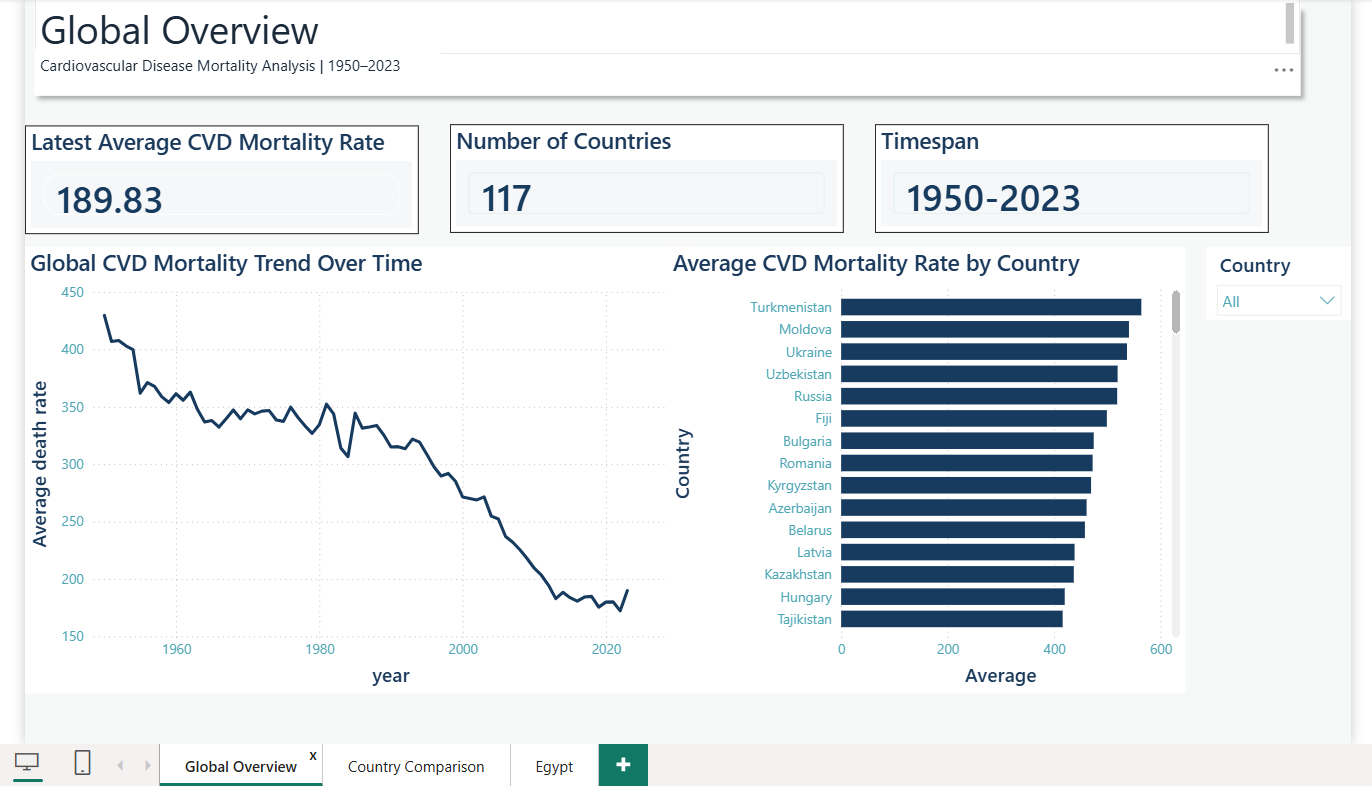

The page's visual inventory and layout, read from the dashboard file:
{"tool":"powerbi","page":{"name":"Global Overview","canvas":[1280,720],"ordinal":0},"visuals":[{"type":"cardVisual","title":"Latest Average CVD Mortality Rate","fields":{"Data":["cvd_mortality_clean.latest_mortality_rate"]},"box":[0,122.5,380,105],"z":0},{"type":"cardVisual","title":"Number of Countries","fields":{"Data":["cvd_mortality_clean.Number_countries"]},"box":[410,122,380,105],"z":1000},{"type":"cardVisual","title":"Timespan","fields":{"Data":["cvd_mortality_clean.Timespan"]},"box":[820,122,380,105],"z":2000},{"type":"lineChart","title":"Global CVD Mortality Trend Over Time","fields":{"Category":["cvd_mortality_clean.year"],"Y":["Avg(cvd_mortality_clean.death_rate)"]},"box":[0,240,650,430],"z":3000},{"type":"slicer","fields":{"Values":["cvd_mortality_clean.country"]},"box":[1140,240,140,70],"z":4000},{"type":"clusteredBarChart","title":"Average CVD Mortality Rate by Country","fields":{"Category":["cvd_mortality_clean.country"],"Y":["cvd_mortality_clean.Average"]},"box":[620,240,500,430],"z":5000},{"type":"shape","box":[0,0,1240,103.3],"z":6000},{"type":"textbox","box":[10,0,1220,54.1],"z":7000},{"type":"textbox","box":[10,50,391.1,31.1],"z":8000}]}

Visuals, with their boxes on the page's 1280x720 design canvas (x1, y1, x2, y2). These are canvas units, not pixel positions in the 1372x786 screenshot, which may show the page scaled, cropped or inside an application window:
"Latest Average CVD Mortality Rate" cardVisual: Rect(0, 122, 380, 228)
"Number of Countries" cardVisual: Rect(410, 122, 790, 227)
"Timespan" cardVisual: Rect(820, 122, 1200, 227)
"Global CVD Mortality Trend Over Time" lineChart: Rect(0, 240, 650, 670)
slicer - cvd_mortality_clean.country: Rect(1140, 240, 1280, 310)
"Average CVD Mortality Rate by Country" clusteredBarChart: Rect(620, 240, 1120, 670)
shape: Rect(0, 0, 1240, 103)
textbox: Rect(10, 0, 1230, 54)
textbox: Rect(10, 50, 401, 81)
